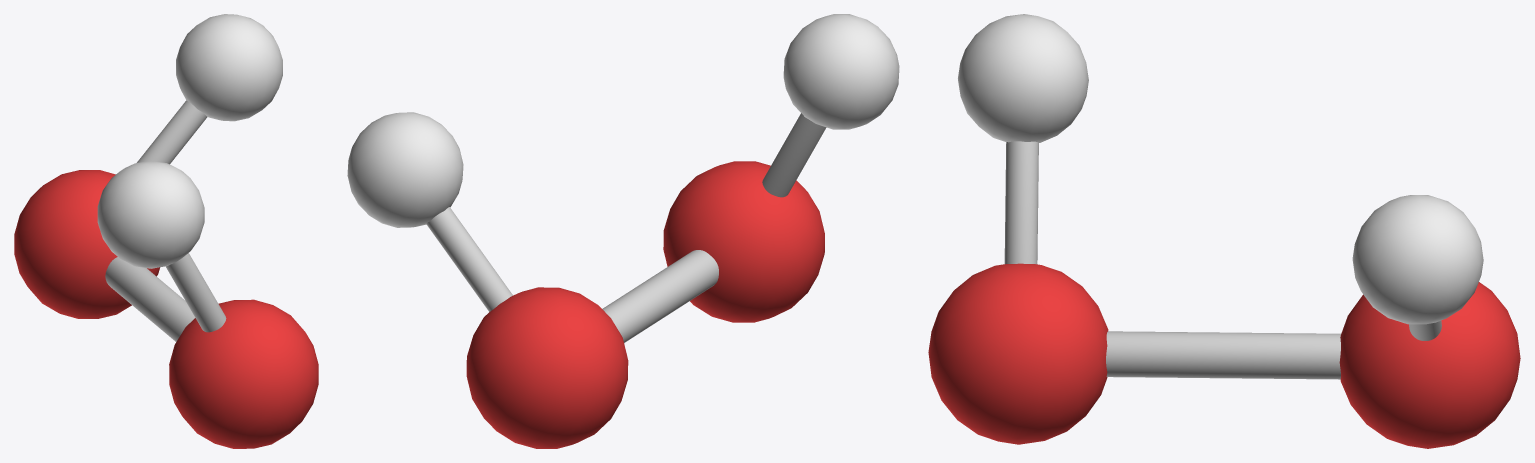
The picture shows the model from 3 angles, left to right: view 1: azimuth 30°, elevation 25°; view 2: azimuth 150°, elevation 25°; view 3: azimuth 270°, elevation 25°; orthographic projection. The views are drawn at different scales.
Parts seen in each view (by area): view 1: Atom_0_O, Atom_0_O_001, Atom_3_H, Atom_2_H_001, Bond, Bond_002, Bond_008; view 2: Atom_0_O_001, Atom_0_O, Atom_3_H, Atom_2_H_001, Bond, Bond_008, Bond_002; view 3: Atom_0_O, Atom_0_O_001, Atom_2_H_001, Atom_3_H, Bond, Bond_002.
Boxes of the visible parts, bbox=[...] form: Atom_0_O: bbox=[169, 299, 318, 448]; Atom_0_O_001: bbox=[14, 170, 159, 318]; Atom_3_H: bbox=[97, 160, 204, 268]; Atom_2_H_001: bbox=[176, 14, 282, 121]; Bond: bbox=[105, 257, 195, 341]; Bond_002: bbox=[165, 253, 226, 332]; Bond_008: bbox=[137, 100, 207, 164]; Atom_0_O_001: bbox=[466, 287, 628, 448]; Atom_0_O: bbox=[663, 161, 824, 322]; Atom_3_H: bbox=[783, 14, 899, 129]; Atom_2_H_001: bbox=[347, 112, 463, 227]; Bond: bbox=[602, 250, 718, 342]; Bond_008: bbox=[426, 207, 512, 311]; Bond_002: bbox=[762, 113, 826, 197]; Atom_0_O: bbox=[928, 263, 1108, 444]; Atom_0_O_001: bbox=[1339, 282, 1520, 448]; Atom_2_H_001: bbox=[1352, 195, 1483, 324]; Atom_3_H: bbox=[958, 14, 1088, 142]; Bond: bbox=[1106, 331, 1340, 379]; Bond_002: bbox=[1004, 141, 1038, 264].
Size of the model in its own units: 1.56 by 1.32 by 1.97.
